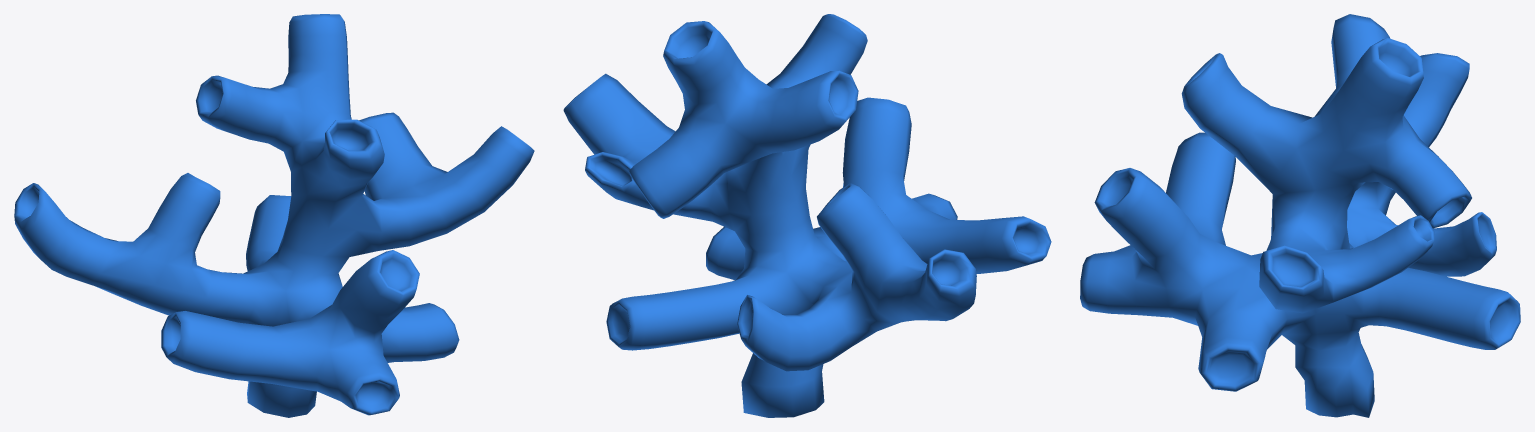
Rendered from coral3.fbx.
3 views of the same model, side by side, from view 1: azimuth 30°, elevation 25°; view 2: azimuth 150°, elevation 25°; view 3: azimuth 270°, elevation 25° (orthographic). The views are drawn at different scales.
Visible parts, largest first — view 1: Korall3; view 2: Korall3; view 3: Korall3.
Part boxes in pixels (<box>): Korall3: <box>14,14,534,417</box>; Korall3: <box>563,14,1051,417</box>; Korall3: <box>1080,14,1520,417</box>.
Size of the model in its own units: 51.37 by 40.21 by 41.03.
